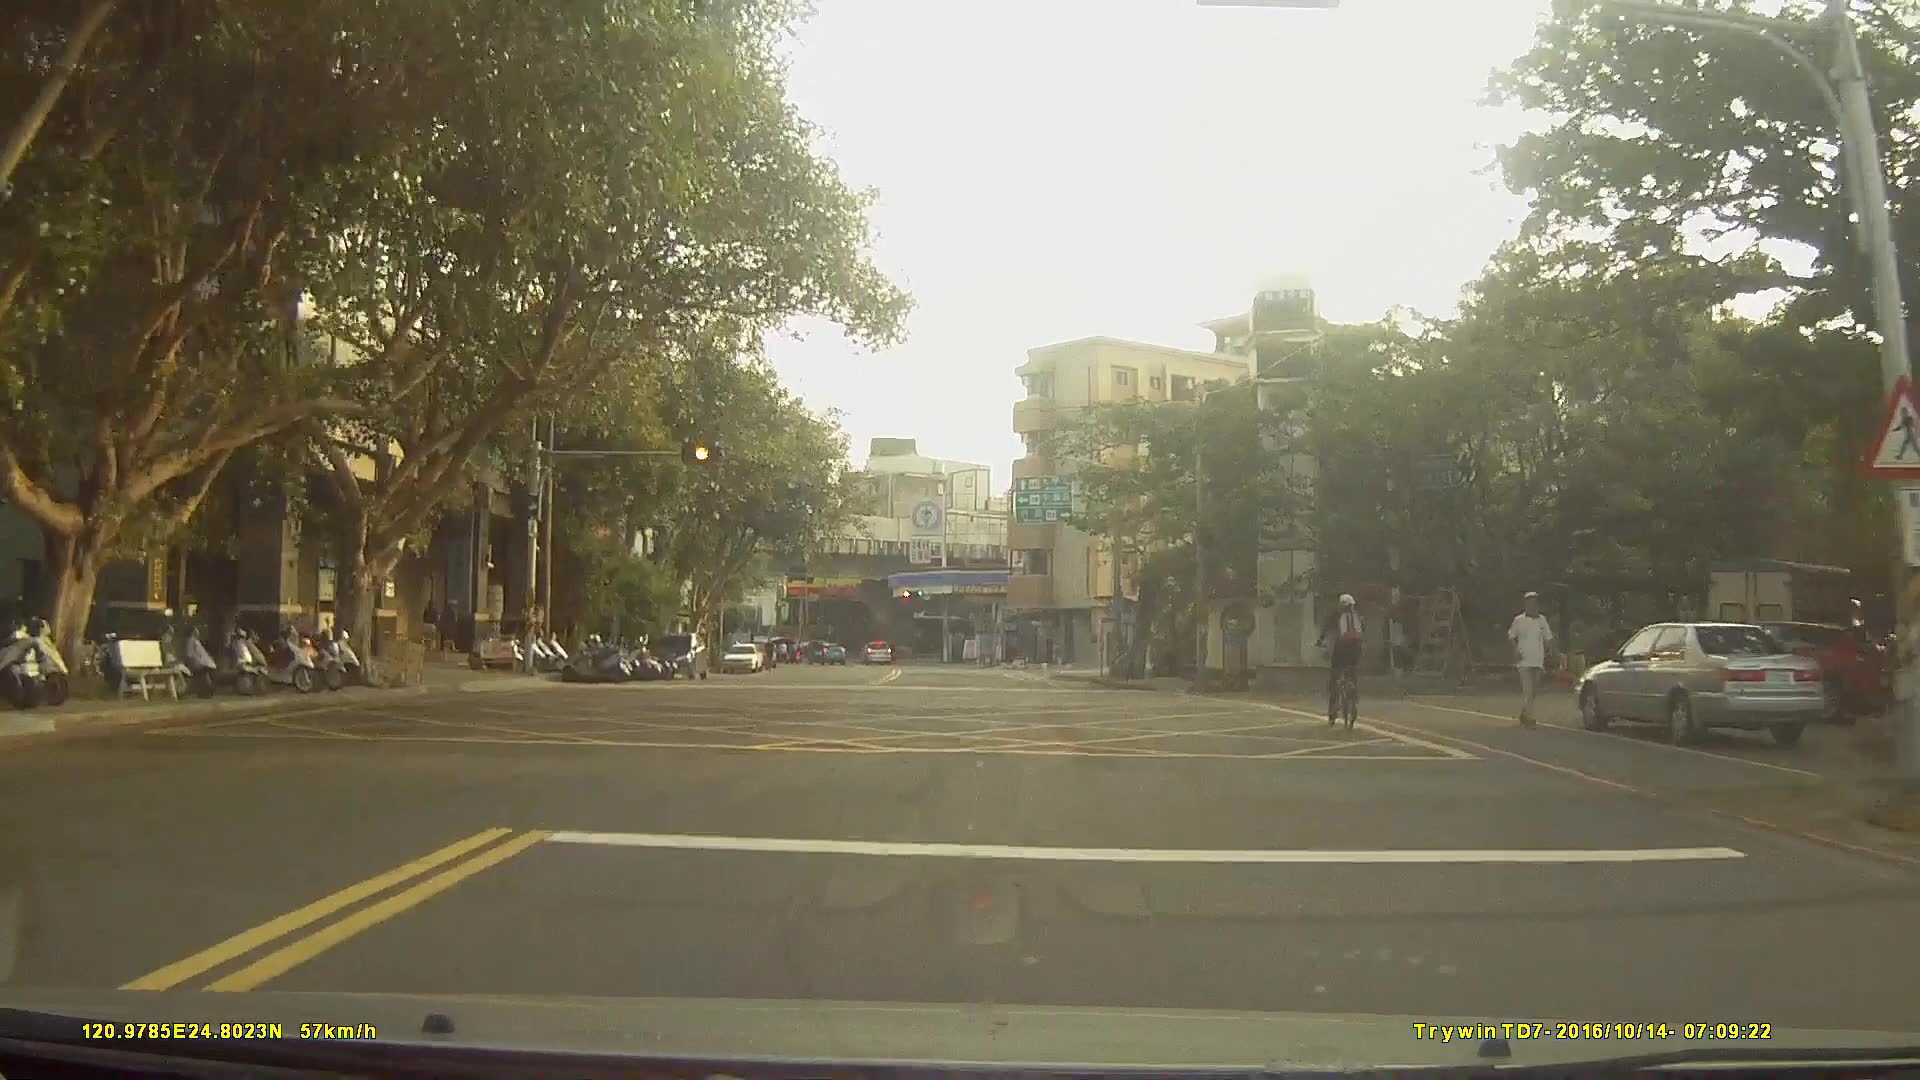pedestrian: (1499, 583, 1564, 734), (418, 598, 444, 657)
rider: (1316, 593, 1372, 729)
vehicle: (1574, 620, 1826, 748), (649, 628, 709, 678), (723, 640, 763, 673), (807, 640, 847, 664), (859, 638, 894, 664)
